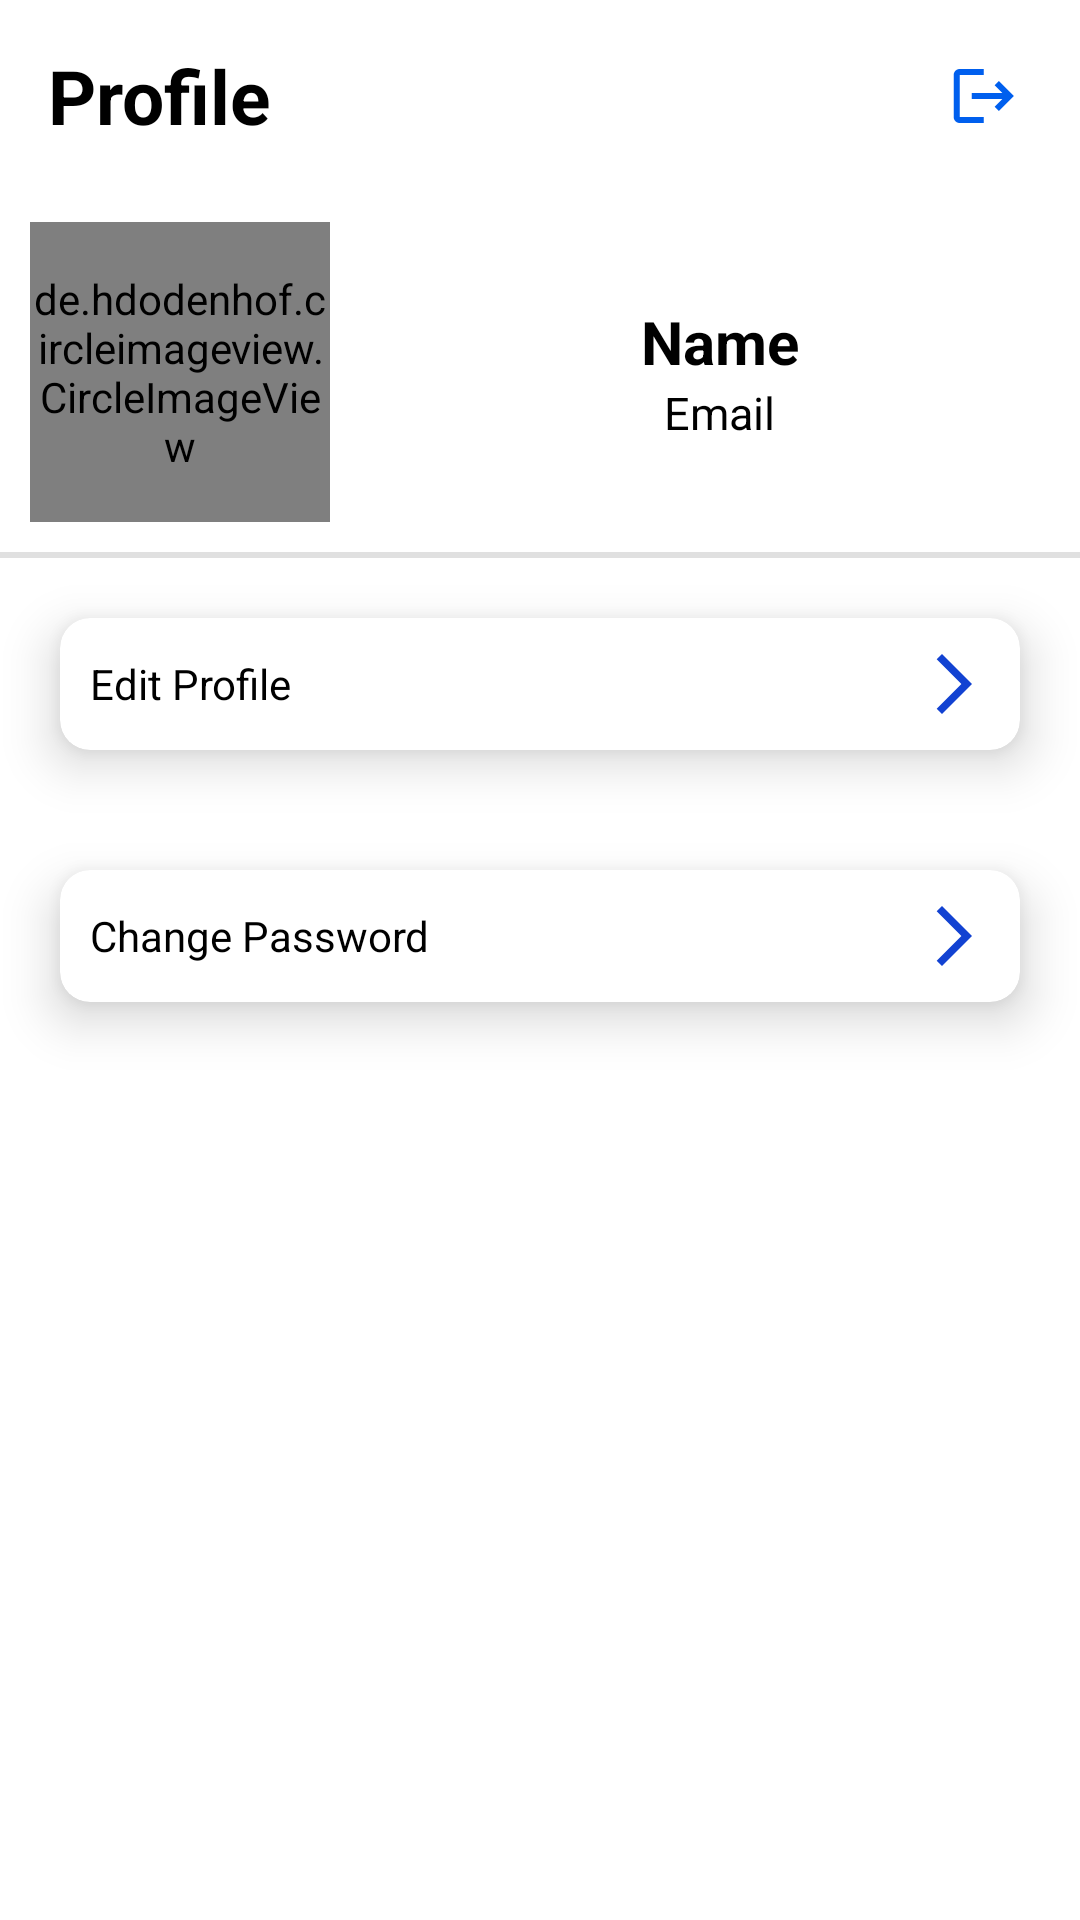

Icon bounding boxes for this 1080×1920 phone screenshot, format box(x1, y1, x2, y2):
arrow forward: box(937, 654, 972, 714), box(937, 906, 972, 966)
log out: box(953, 69, 1014, 123)
